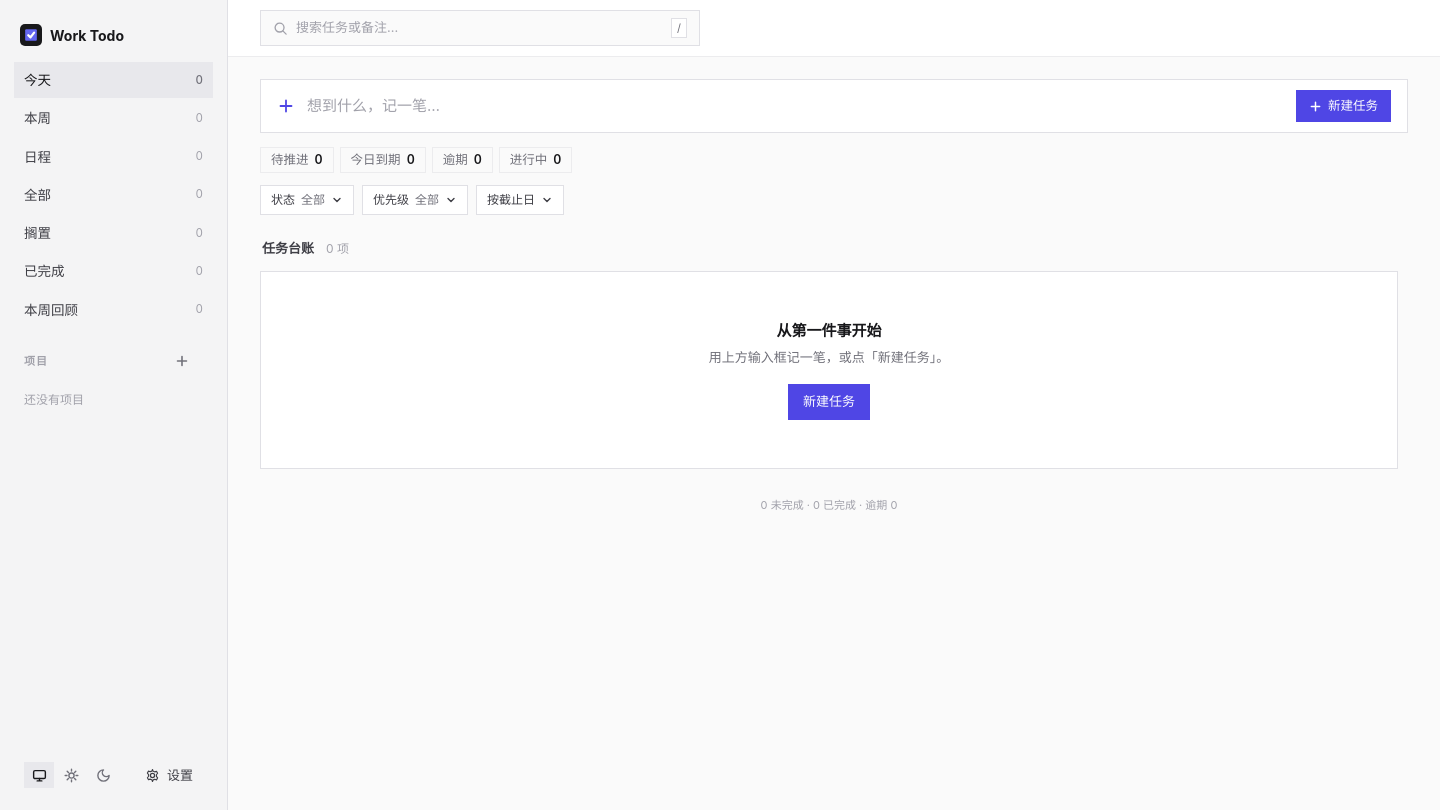
Test: sort menu selection › updates #sort-label-text and the hidden #sort-select for all three modes
The image size is (1440, 810).
Check: the text with id "sort-label-text" reads "按截止日", box x1=487 y1=192 x2=535 y2=207
Click the button with id "btn-sort".
click(520, 200)  # box x1=476 y1=185 x2=564 y2=215
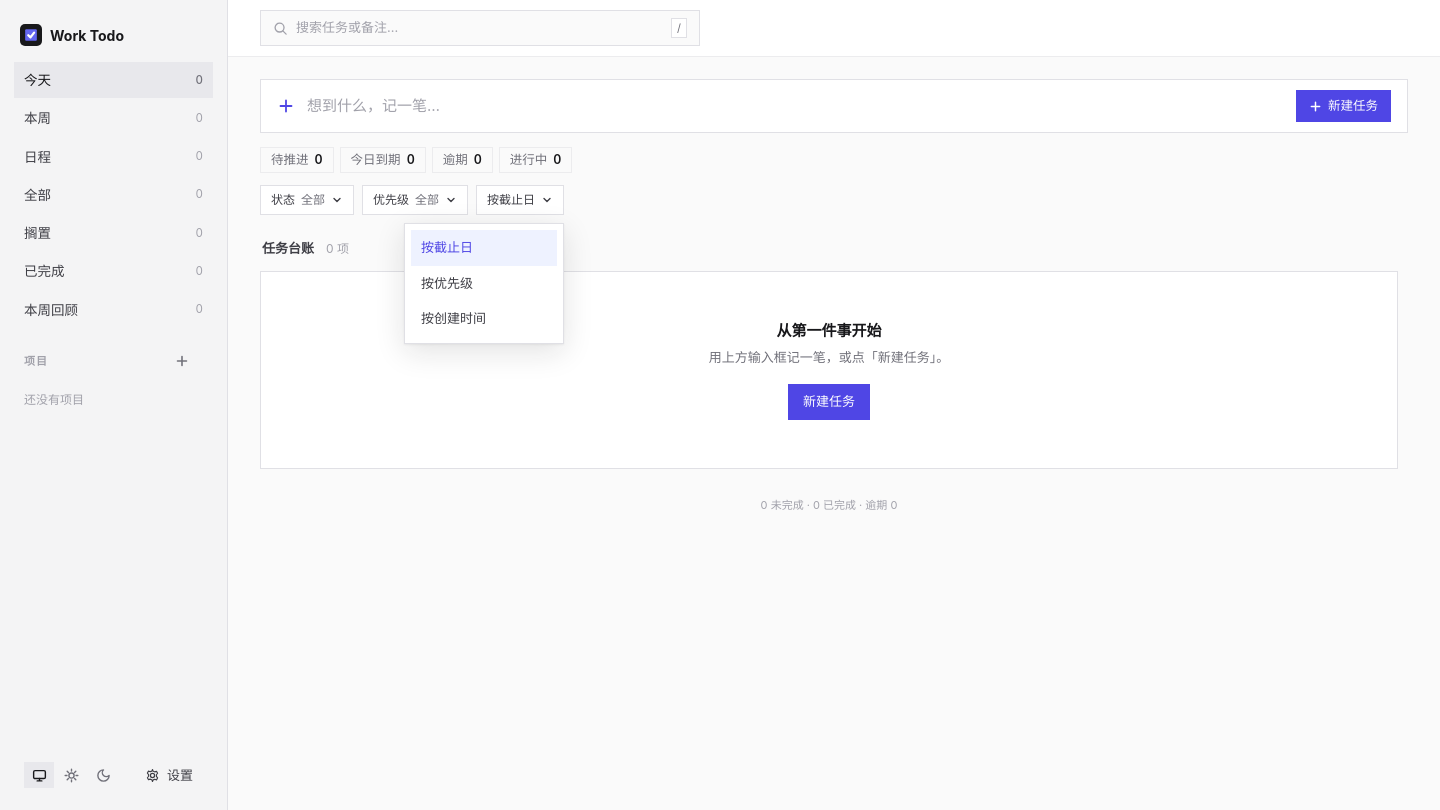
Click the button "按优先级".
click(484, 283)  # box x1=411 y1=266 x2=557 y2=301
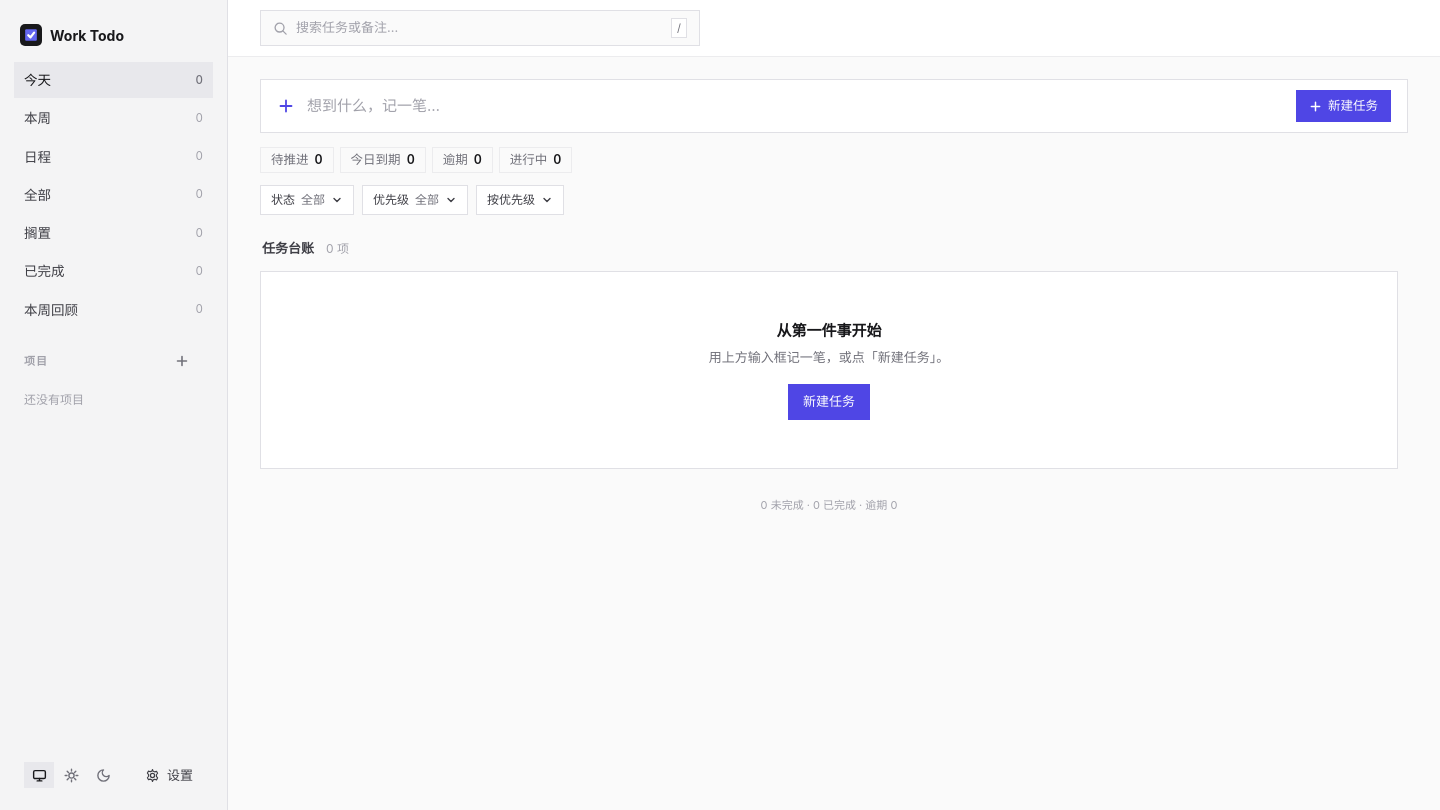
Check: the text with id "sort-label-text" reads "按优先级", box x1=487 y1=192 x2=535 y2=207
Click the button with id "btn-sort".
click(520, 200)  # box x1=476 y1=185 x2=564 y2=215
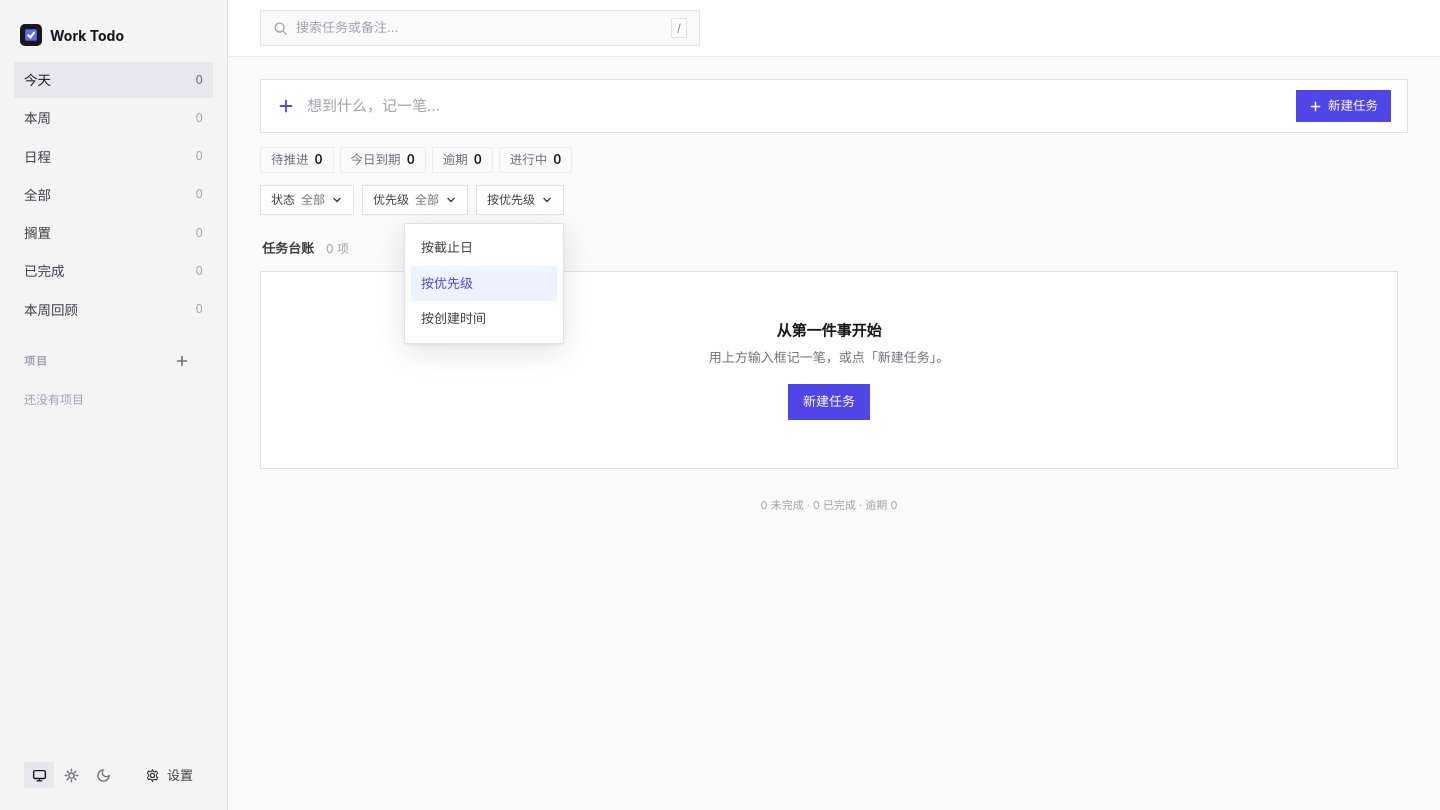
Click the button "按创建时间".
click(484, 319)  # box x1=411 y1=301 x2=557 y2=336
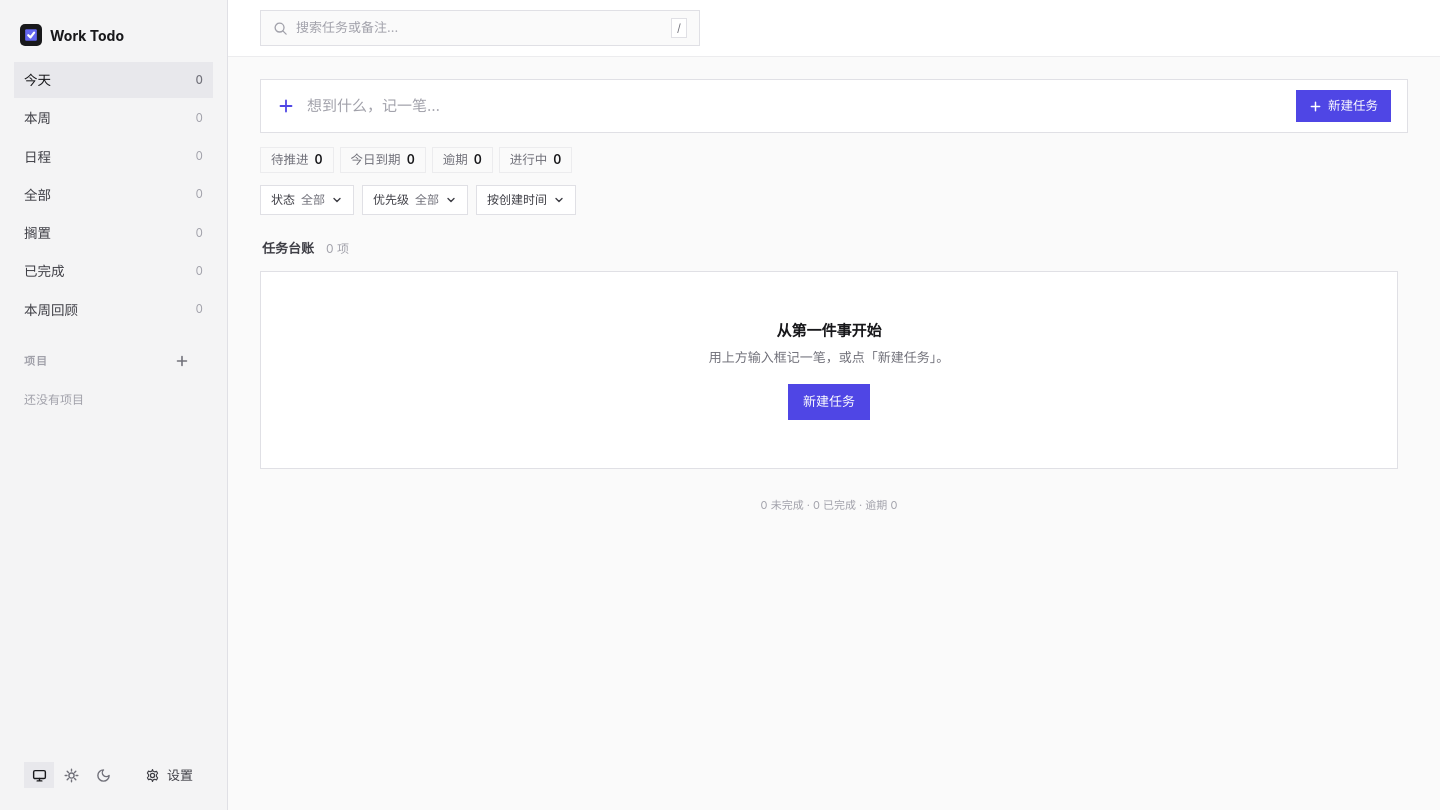
Check: the text with id "sort-label-text" reads "按创建时间", box x1=487 y1=192 x2=547 y2=207
Click the button with id "btn-sort".
click(526, 200)  # box x1=476 y1=185 x2=576 y2=215
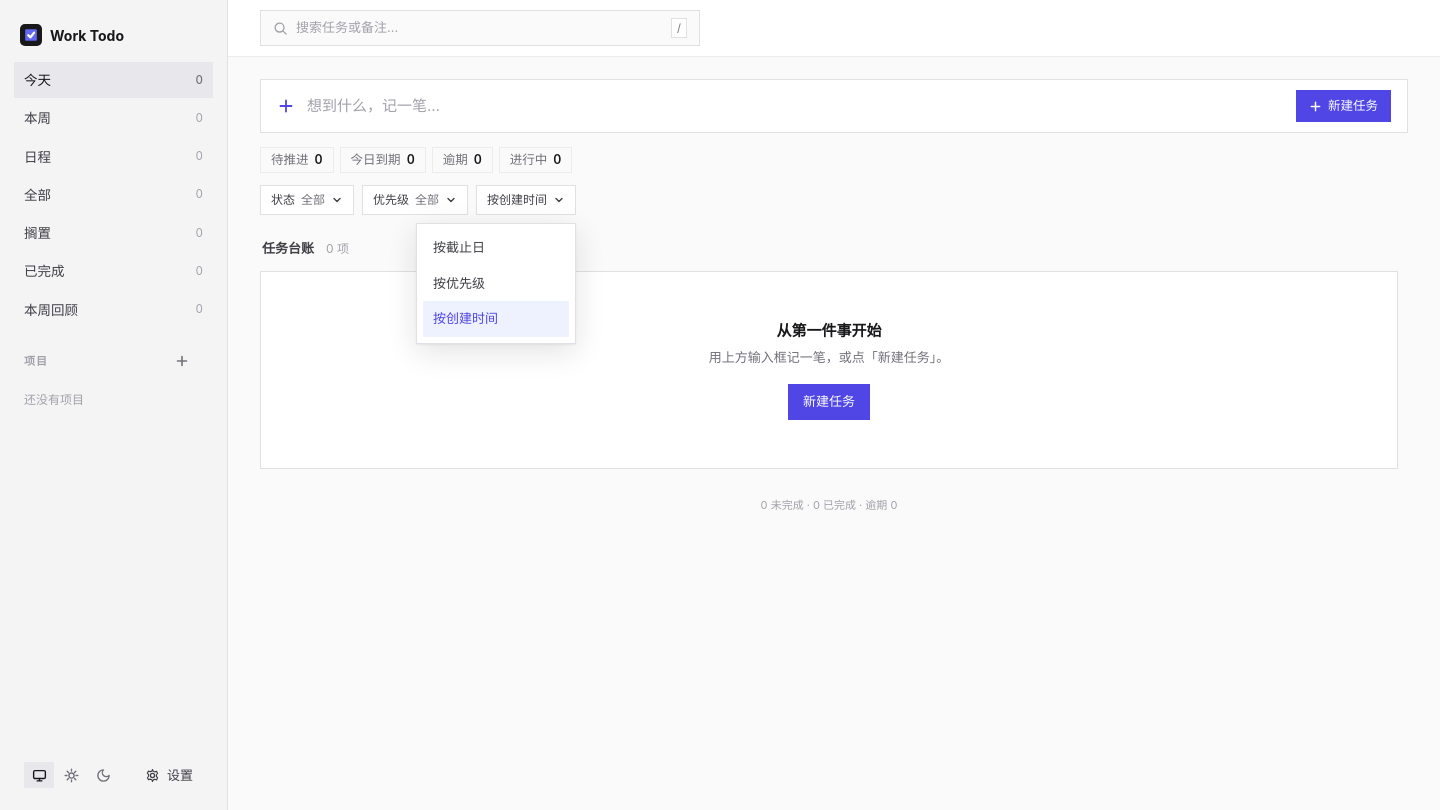
Click the button "按截止日".
click(496, 248)  # box x1=423 y1=230 x2=569 y2=266
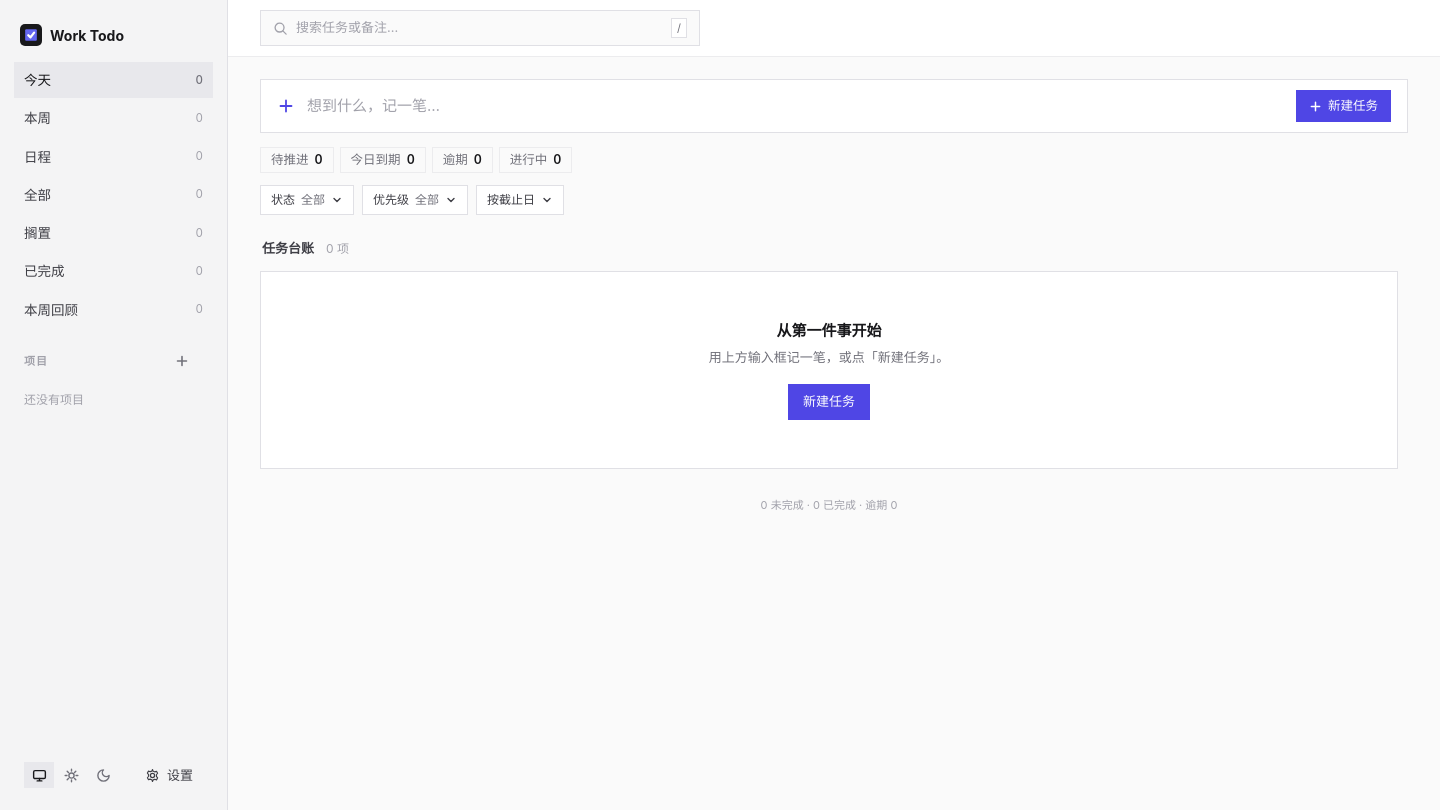
Check: the text with id "sort-label-text" reads "按截止日", box x1=487 y1=192 x2=535 y2=207
